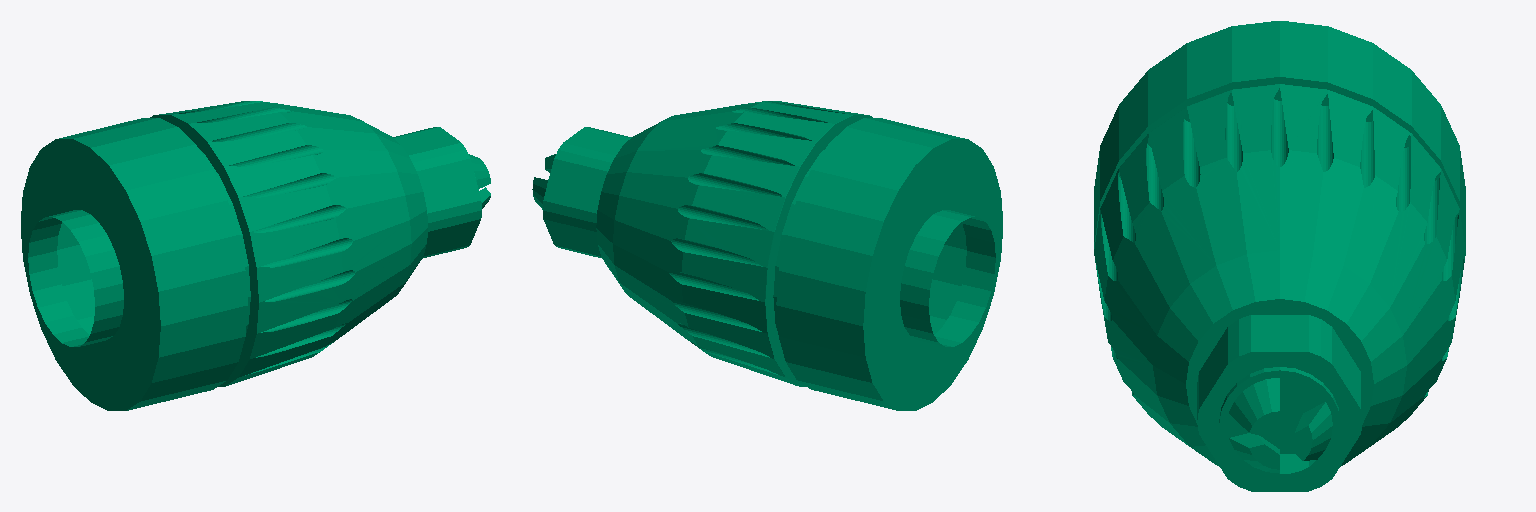
robot.urdf — porter_cable:
<?xml version="1.0"?>
<robot name="porter_cable">
  <link name="base">
    <visual>
      <geometry>
        <mesh filename="assets/base.obj" />
      </geometry>
    </visual>
    <collision>
      <geometry>
        <mesh filename="assets/base.obj" />
      </geometry>
    </collision>
  </link>
  <link name="trigger">
    <visual>
      <geometry>
        <mesh filename="assets/trigger.obj" />
      </geometry>
    </visual>
    <collision>
      <geometry>
        <mesh filename="assets/trigger.obj" />
      </geometry>
    </collision>
  </link>
  <joint name="base_to_trigger" type="prismatic">
    <parent link="base"/>
    <child link="trigger"/>
    <axis xyz="1 0 0" />
    <limit effort="30" velocity="0.1" lower="-0.008" upper="0." />
  </joint>
  <link name="chuck">
    <visual>
      <geometry>
        <mesh filename="assets/chuck.obj" />
      </geometry>
    </visual>
    <collision>
      <geometry>
        <mesh filename="assets/chuck.obj" />
      </geometry>
    </collision>
  </link>
  <joint name="base_to_chuck" type="continuous">
    <parent link="base"/>
    <child link="chuck"/>
    <axis xyz="1 0 0" />
    <dynamics damping="1" friction="0.001"/>
  </joint>
  <link name="bit">
    <visual>
      <geometry>
        <mesh filename="assets/bit.obj" />
      </geometry>
    </visual>
    <collision>
      <geometry>
        <mesh filename="assets/bit.obj" />
      </geometry>
    </collision>
  </link>
  <joint name="chuck_to_bit" type="fixed">
    <parent link="chuck"/>
    <child link="bit"/>
  </joint>
</robot>

--- Render facts (derived) ---
3 views of the same robot in one strip: view 1: azimuth 30°, elevation 25°; view 2: azimuth 150°, elevation 25°; view 3: azimuth 270°, elevation 25° (orthographic).
Model porter_cable with 4 links and 3 joints (1 continuous, 1 prismatic, 1 fixed), rooted at base, posed all joints at 0.
Links seen in each view (by area): view 1: chuck; view 2: chuck; view 3: chuck.
Link boxes in pixels (bbox=[...]): chuck: bbox=[21, 101, 490, 410]; chuck: bbox=[532, 101, 1002, 410]; chuck: bbox=[1094, 21, 1465, 491].
Bounding box of the posed robot: 0.0504 × 0.0293 × 0.0293 m (x, y, z).
1 mesh visuals loaded from 4 distinct referenced files (1 OBJ); not drawn: 3 (reference not matched to a file when rendering).